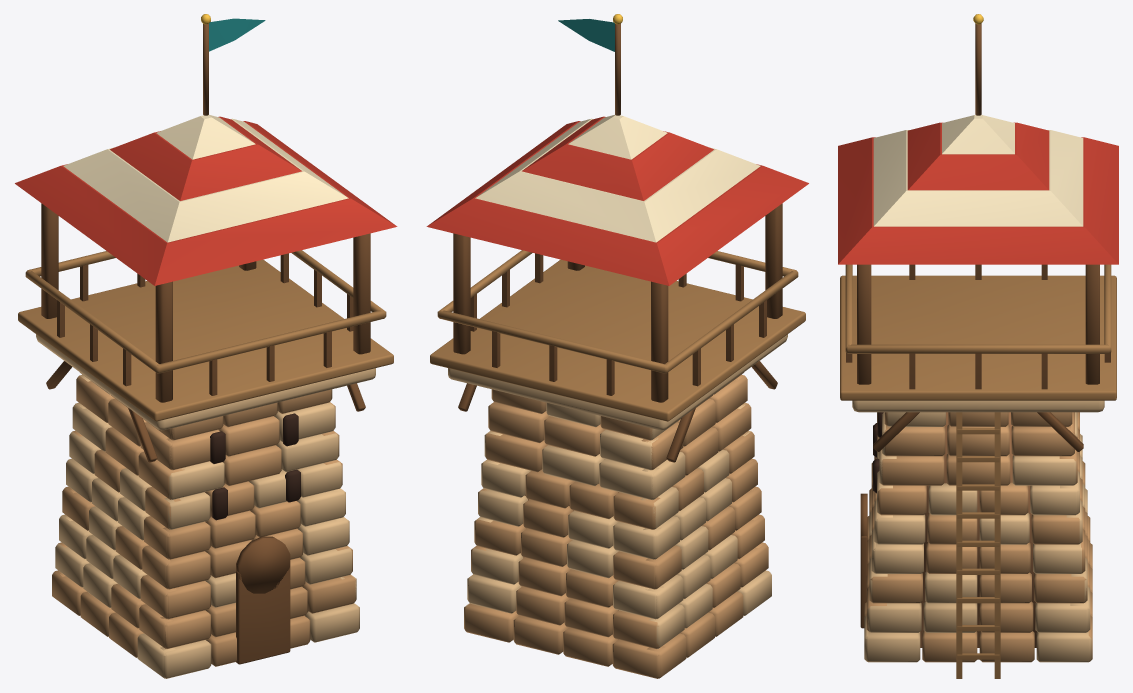
The model's file is desert_tower.glb.
3 views of the same model, side by side, from view 1: azimuth 30°, elevation 25°; view 2: azimuth 150°, elevation 25°; view 3: azimuth 270°, elevation 25° (orthographic).
Parts seen in each view (by area): view 1: D_Tower__D_s1, D_Tower__D_woodl, D_Tower__D_s2, D_Tower__D_red, D_Tower__D_wood, D_Tower__D_cream, D_Tower__D_dark, D_Tower__D_teal; view 2: D_Tower__D_s1, D_Tower__D_woodl, D_Tower__D_s2, D_Tower__D_red, D_Tower__D_cream, D_Tower__D_wood, D_Tower__D_teal; view 3: D_Tower__D_woodl, D_Tower__D_s1, D_Tower__D_s2, D_Tower__D_red, D_Tower__D_cream, D_Tower__D_wood, D_Tower__D_s3.
Part boxes in pixels (<box>): D_Tower__D_s1: <box>52,376,356,666</box>; D_Tower__D_woodl: <box>18,250,393,421</box>; D_Tower__D_s2: <box>36,334,375,678</box>; D_Tower__D_red: <box>15,116,397,285</box>; D_Tower__D_wood: <box>41,24,370,664</box>; D_Tower__D_cream: <box>63,115,348,242</box>; D_Tower__D_dark: <box>210,413,300,520</box>; D_Tower__D_teal: <box>209,18,265,51</box>; D_Tower__D_s1: <box>464,372,768,678</box>; D_Tower__D_woodl: <box>430,250,805,421</box>; D_Tower__D_s2: <box>448,334,787,648</box>; D_Tower__D_red: <box>426,116,808,285</box>; D_Tower__D_cream: <box>475,115,760,242</box>; D_Tower__D_wood: <box>453,24,782,462</box>; D_Tower__D_teal: <box>558,19,614,51</box>; D_Tower__D_woodl: <box>840,264,1116,678</box>; D_Tower__D_s1: <box>864,412,1092,662</box>; D_Tower__D_s2: <box>852,400,1104,662</box>; D_Tower__D_red: <box>838,122,1118,264</box>; D_Tower__D_cream: <box>873,115,1083,226</box>; D_Tower__D_wood: <box>846,23,1110,628</box>; D_Tower__D_s3: <box>920,412,1036,647</box>.
Bounding box in the file's own units: 4.72 × 11.09 × 4.67.
